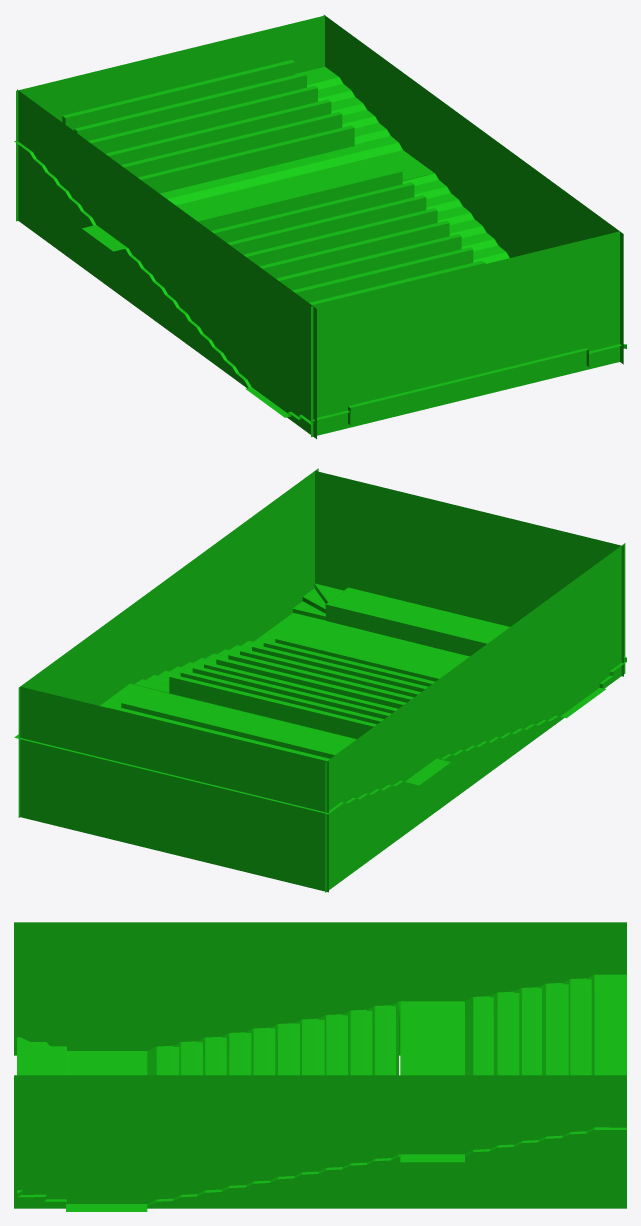
File: CinemaCollision.FBX
The picture shows the model from 3 angles, top to bottom: view 1: azimuth 30°, elevation 25°; view 2: azimuth 150°, elevation 25°; view 3: azimuth 270°, elevation 25°; orthographic projection. The views are drawn at different scales.
Parts seen in each view (by area): view 1: Collision; view 2: Collision; view 3: Collision.
Part boxes in pixels (bbox=[...]): Collision: bbox=[14, 15, 626, 438]; Collision: bbox=[14, 468, 626, 892]; Collision: bbox=[14, 922, 626, 1211].
Size of the model in its own units: 1643 by 608 by 2532.
